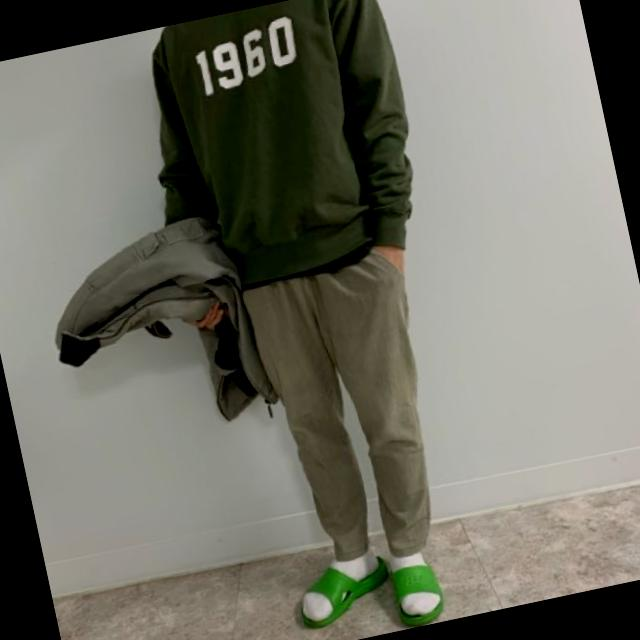cottonpants: (240, 242, 462, 580)
mtm: (106, 0, 436, 315)
